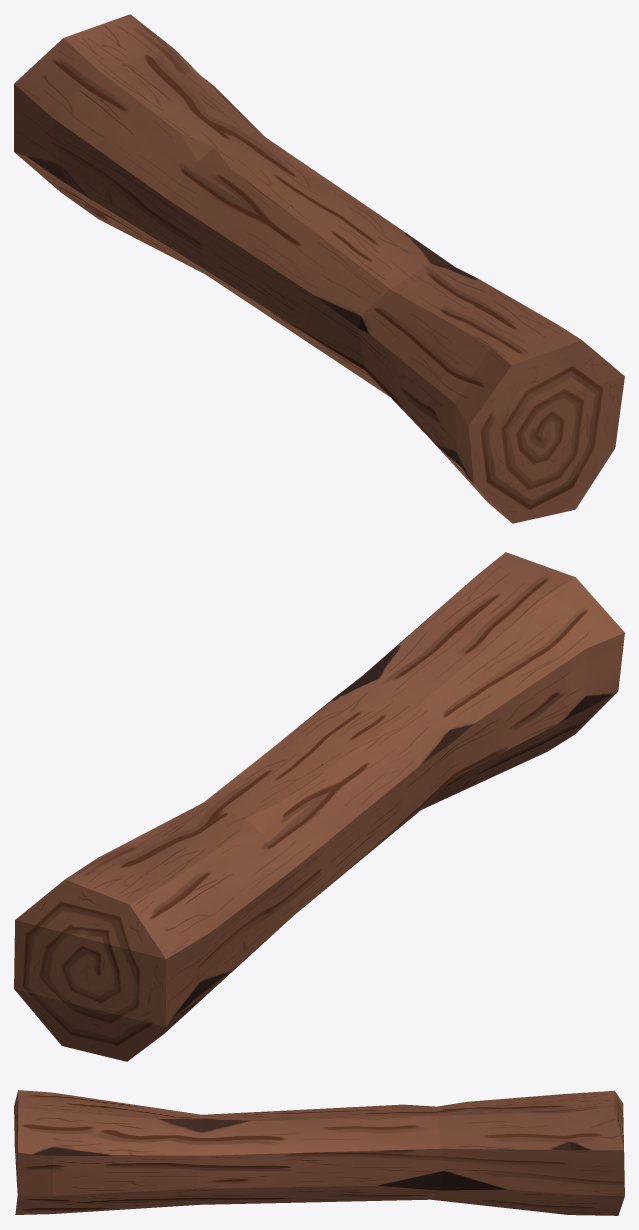
The model's file is low_poly_log.glb.
3 views of the same model, one above another, from view 1: azimuth 30°, elevation 25°; view 2: azimuth 150°, elevation 25°; view 3: azimuth 270°, elevation 25° (orthographic). The views are drawn at different scales.
Parts seen in each view (by area): view 1: Log_0; view 2: Log_0; view 3: Log_0.
Boxes of the visible parts, <box> form: Log_0: <box>14,14,624,523</box>; Log_0: <box>14,552,624,1061</box>; Log_0: <box>14,1090,624,1215</box>.
Bounding box in the file's own units: 0.2086 × 0.2061 × 1.03.
Materials: 1 (1 with a texture image).
